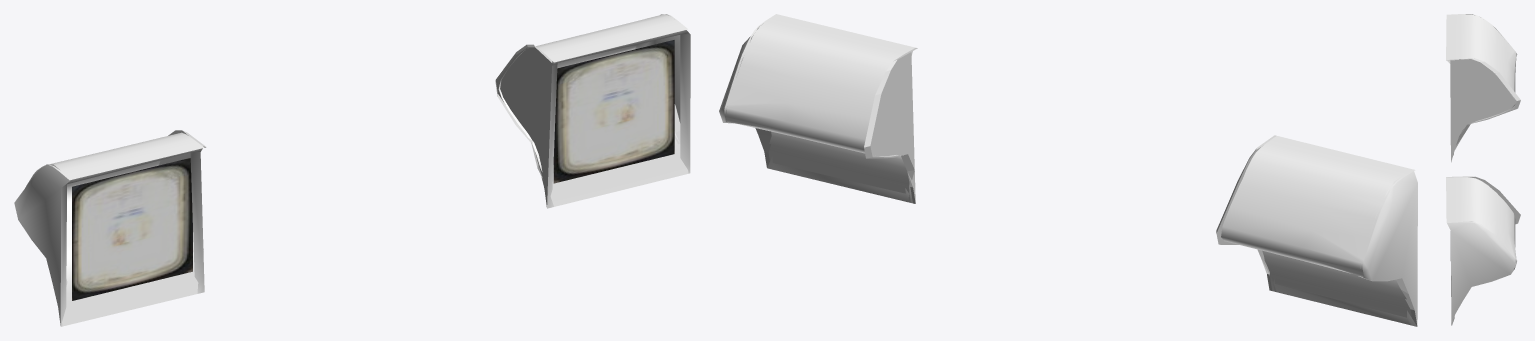
The model's file is ae86light.FBX.
3 renders of one model, left to right at view 1: azimuth 30°, elevation 25°; view 2: azimuth 150°, elevation 25°; view 3: azimuth 270°, elevation 25°, orthographic. The views are drawn at different scales.
Parts seen in each view (by area): view 1: Plane13, Plane04, Line01, 对象13, 对象04, Line07; view 2: 对象13, 对象04, Line07, Line01; view 3: Line01, Line07, 对象04, 对象13.
Part boxes in pixels (<box>): Plane13: <box>72,158,192,300</box>; Plane04: <box>553,40,674,183</box>; Line01: <box>495,14,690,208</box>; 对象13: <box>25,132,204,326</box>; 对象04: <box>498,14,688,206</box>; Line07: <box>14,130,206,326</box>; 对象13: <box>1221,136,1415,317</box>; 对象04: <box>724,14,915,202</box>; Line07: <box>1216,135,1417,326</box>; Line01: <box>719,26,917,203</box>; Line01: <box>1446,176,1520,325</box>; Line07: <box>1446,14,1520,162</box>; 对象04: <box>1446,177,1516,324</box>; 对象13: <box>1446,14,1516,136</box>.
Bounding box in the file's own units: 114 × 26 × 17.09.
Materials: 3 (2 with a texture image).
